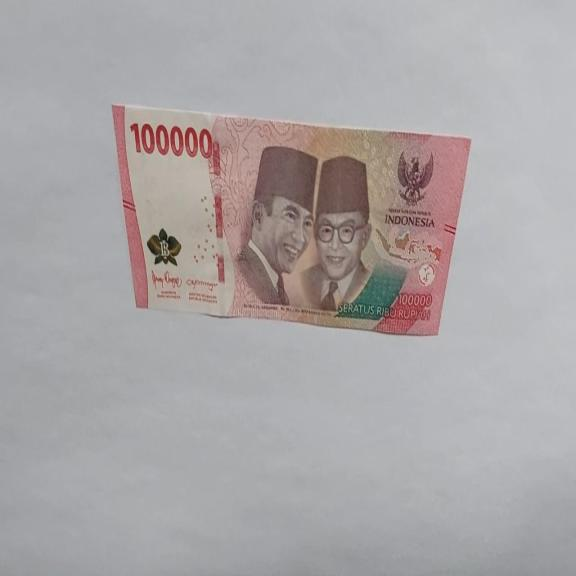Kertas: (111, 101, 472, 337), (129, 119, 214, 161)
